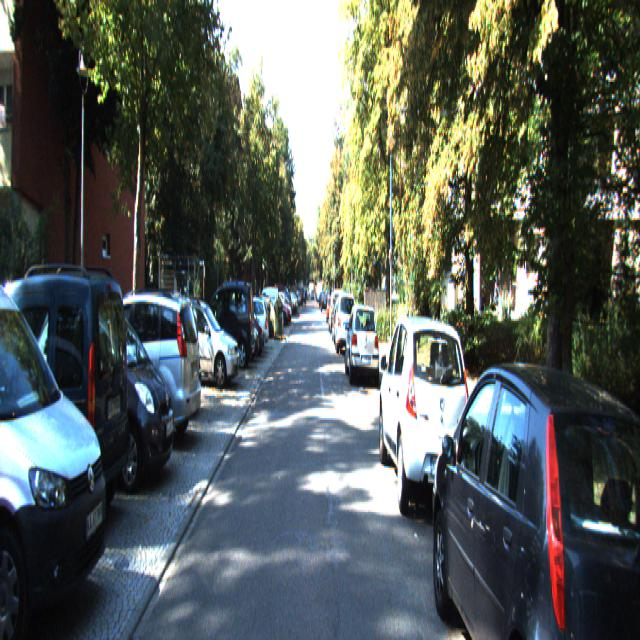Car: (431, 345, 639, 638), (0, 228, 118, 639), (0, 248, 132, 540), (30, 300, 177, 495), (62, 285, 202, 454), (378, 308, 476, 527), (160, 295, 240, 393), (193, 279, 254, 373), (219, 292, 270, 353), (345, 303, 380, 390), (335, 291, 357, 356)
